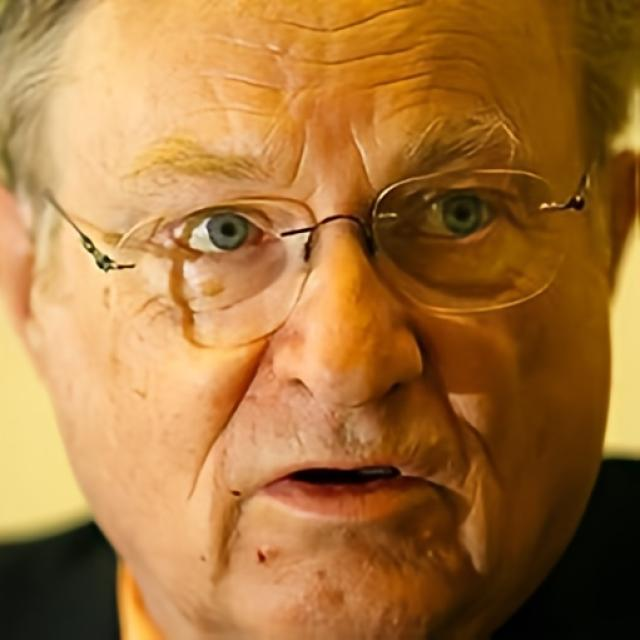surprise: (32, 0, 611, 640)
